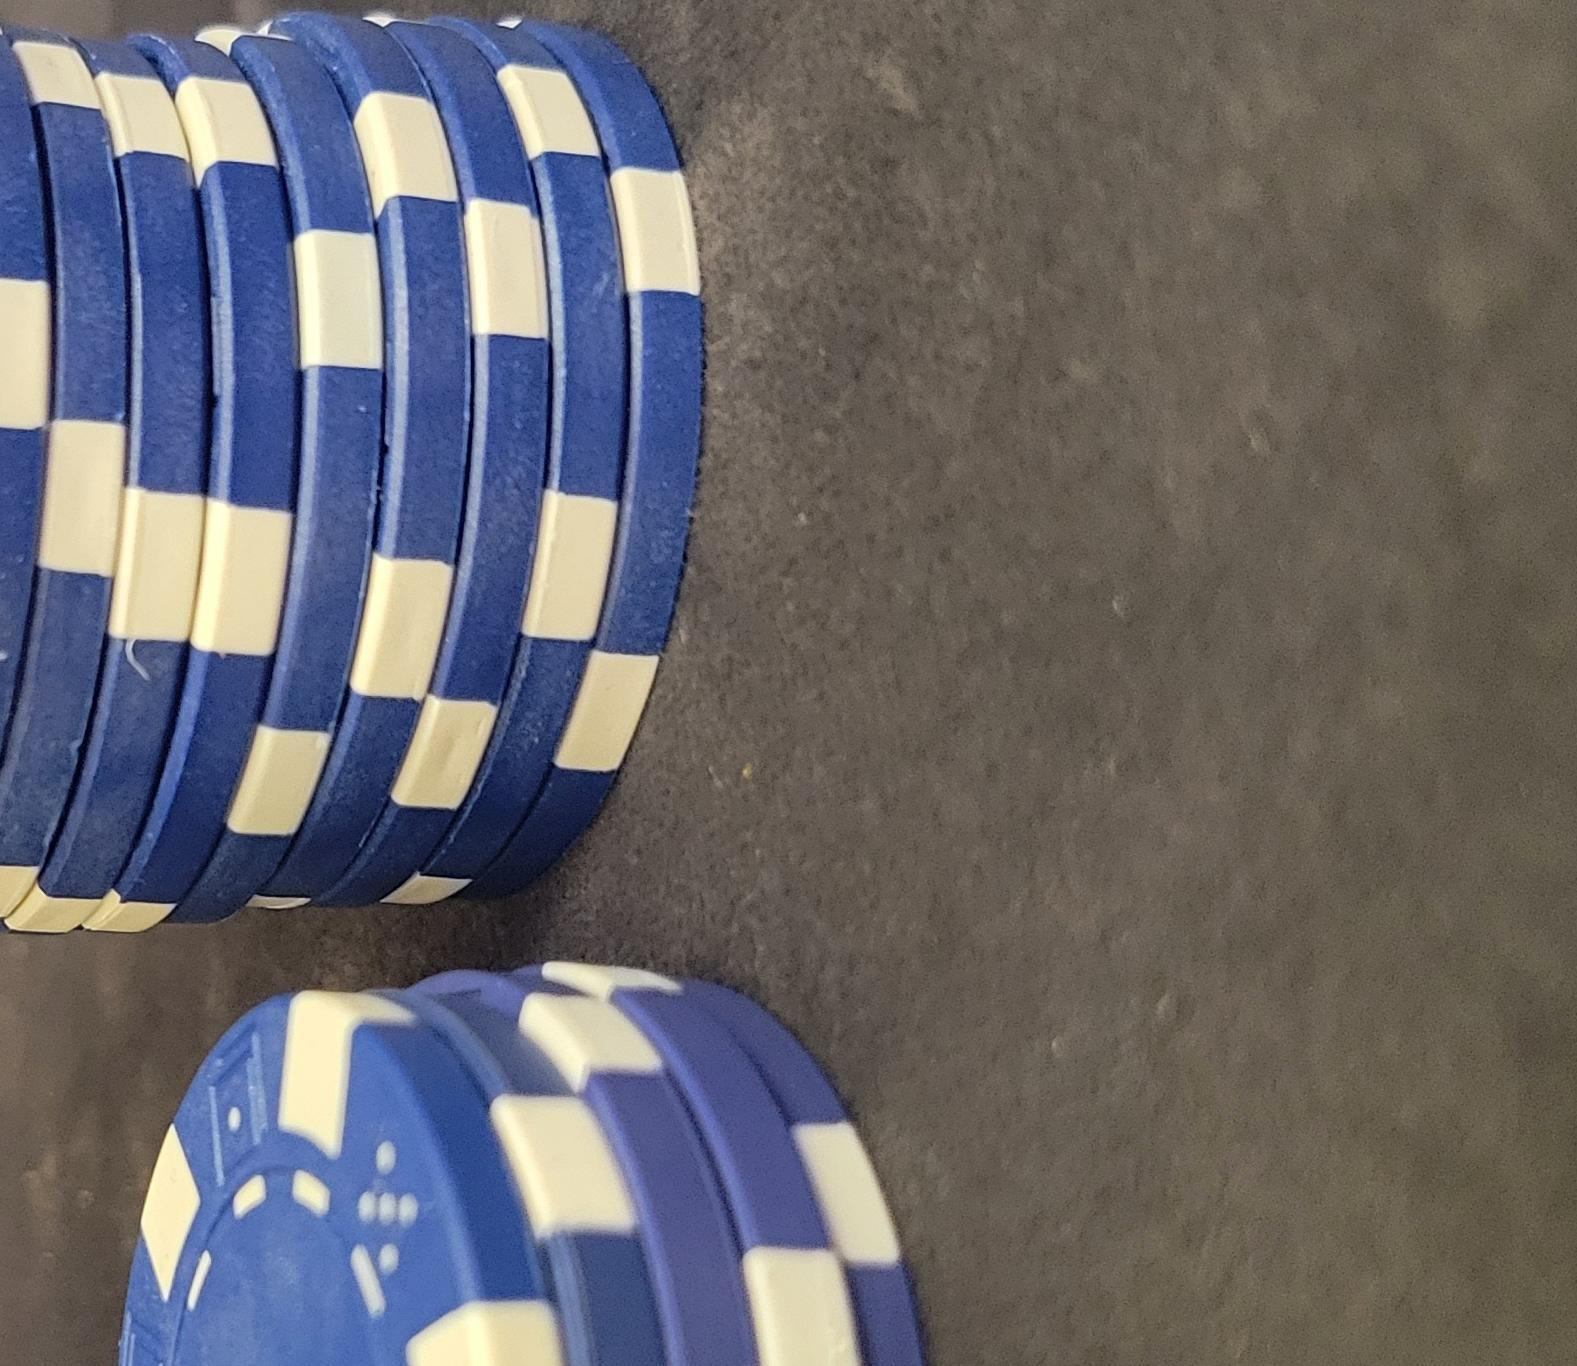Chip: (1, 204, 704, 1366)
